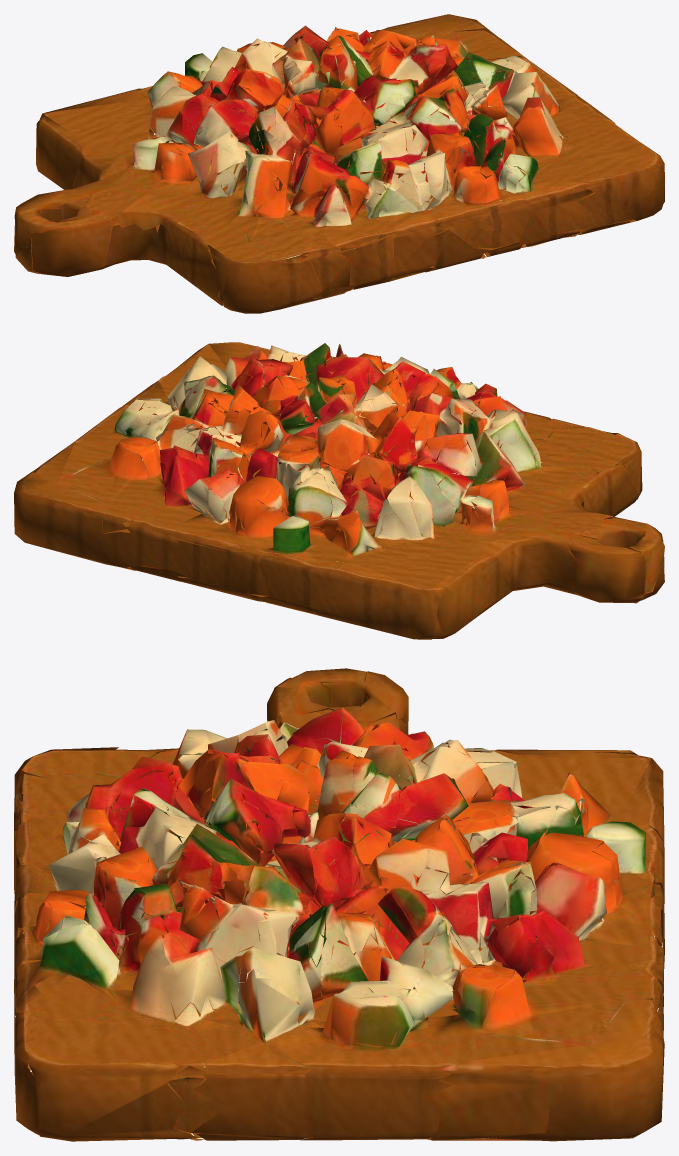
File: chopped_board.glb
3 renders of one model, top to bottom at view 1: azimuth 30°, elevation 25°; view 2: azimuth 150°, elevation 25°; view 3: azimuth 270°, elevation 25°, orthographic. The views are drawn at different scales.
Parts seen in each view (by area): view 1: Mesh_0; view 2: Mesh_0; view 3: Mesh_0.
Boxes of the visible parts, <box> form: Mesh_0: <box>14,14,664,313</box>; Mesh_0: <box>14,342,664,639</box>; Mesh_0: <box>14,668,664,1141</box>.
Size of the model in its own units: 1 by 0.2573 by 0.679.
Materials: 1 (1 with a texture image).
